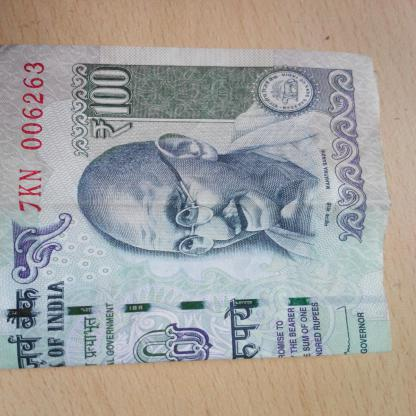Old100Front: (0, 44, 394, 370)
